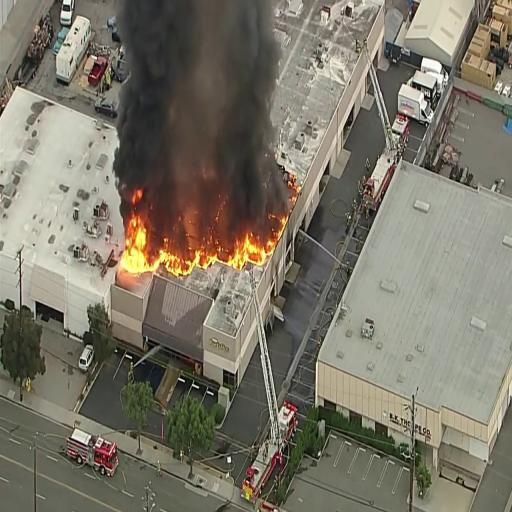fire: (156, 242, 212, 273), (119, 218, 145, 284), (232, 238, 273, 270)
smoke: (216, 4, 272, 209), (120, 6, 174, 191)
